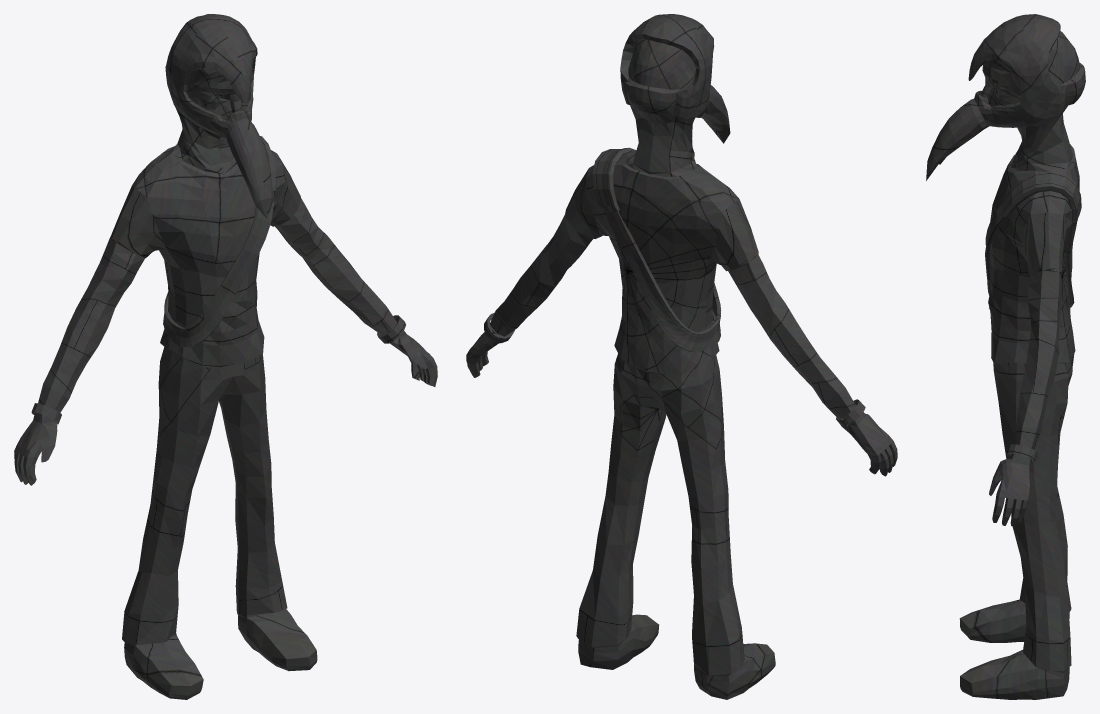
Rendered from main04-TEST.obj.
3 views of the same model, side by side, from view 1: azimuth 30°, elevation 25°; view 2: azimuth 150°, elevation 25°; view 3: azimuth 270°, elevation 25° (orthographic).
Parts seen in each view (by area): view 1: low_poly_Mesh.001; view 2: low_poly_Mesh.001; view 3: low_poly_Mesh.001.
Boxes of the visible parts, x1=… form: low_poly_Mesh.001: x1=14, y1=14, x2=437, y2=699; low_poly_Mesh.001: x1=466, y1=14, x2=897, y2=699; low_poly_Mesh.001: x1=926, y1=14, x2=1085, y2=699.
Size of the model in its own units: 1.24 by 1.85 by 0.4144.
